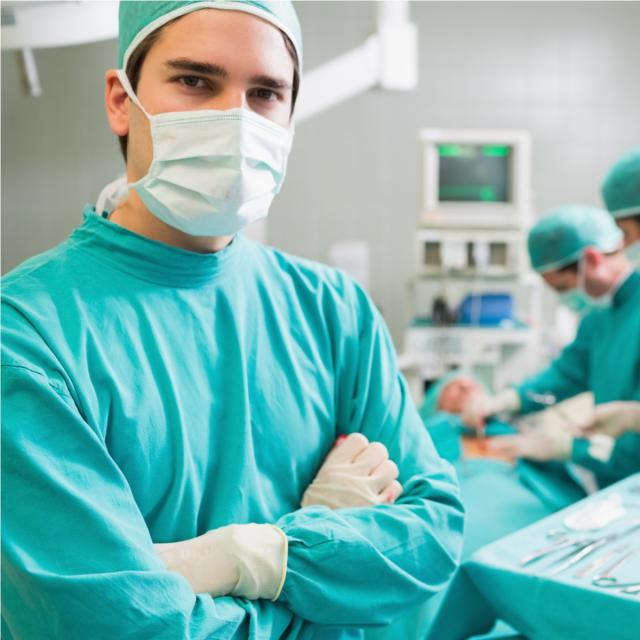mask: (111, 84, 303, 249), (543, 272, 599, 333), (616, 233, 640, 277)
